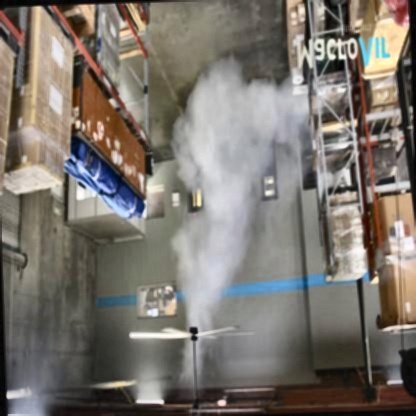smoke: (174, 61, 283, 329)
